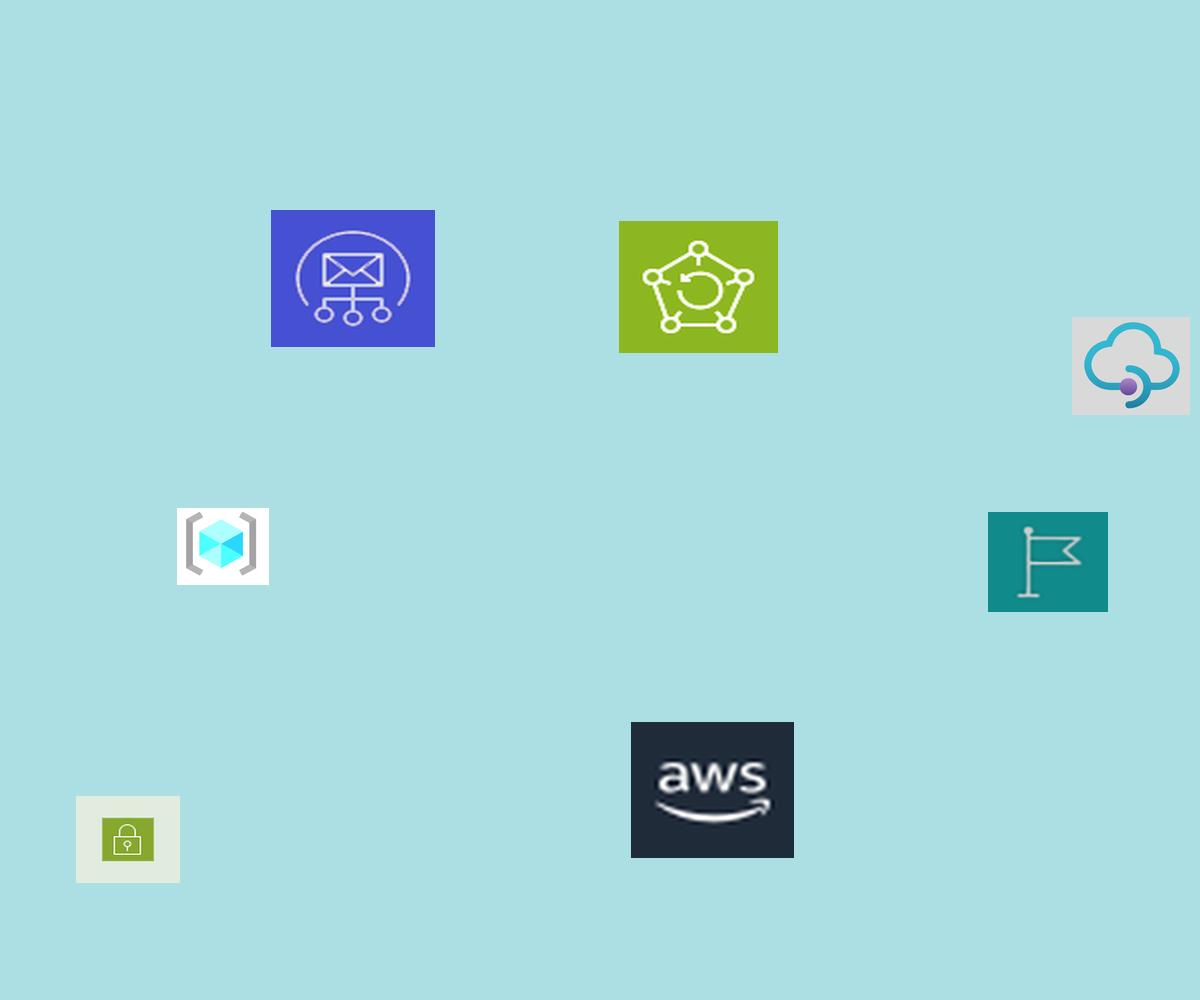AWS-Backup: (619, 221, 778, 353)
AWS-Cloud-logo: (631, 722, 794, 858)
AWS-Public-subnet: (76, 796, 180, 883)
AWS-Region: (988, 512, 1108, 612)
AWS-Simple-Email-Service: (271, 210, 435, 347)
Azure_api_gateway: (1072, 317, 1190, 415)
Azure_resource_group: (177, 508, 269, 585)
